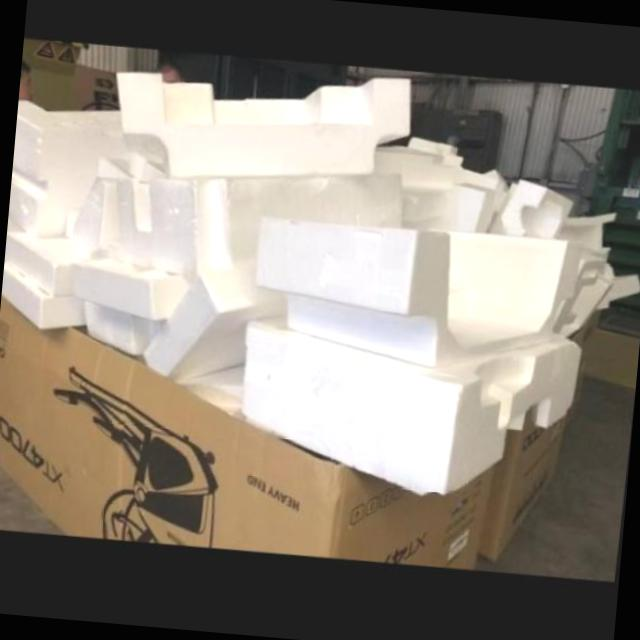xop: (242, 319, 582, 493), (254, 215, 581, 364), (115, 69, 412, 176), (115, 170, 402, 271), (144, 267, 287, 379), (12, 98, 122, 234)
